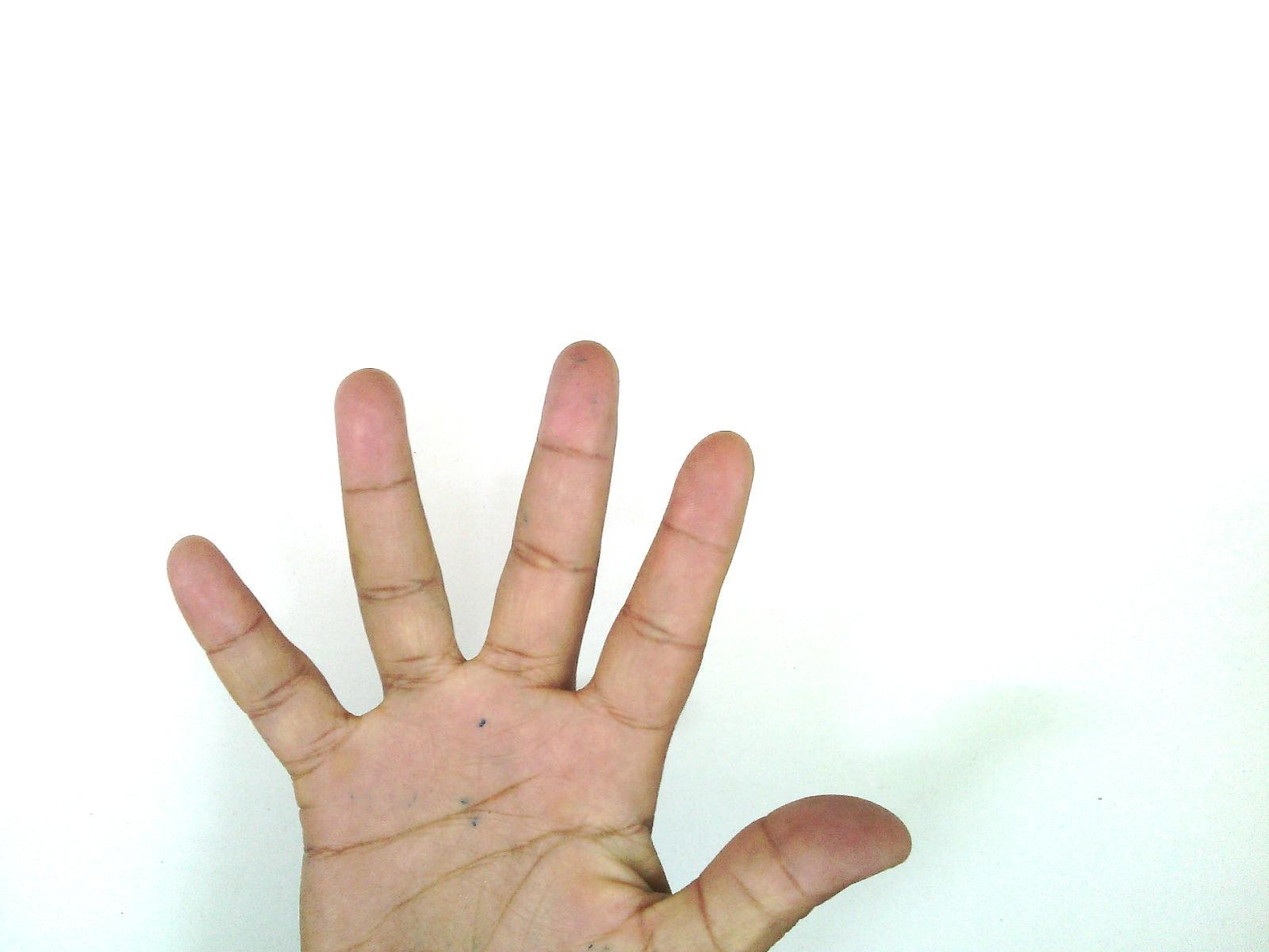open_palm: (164, 339, 914, 951)
